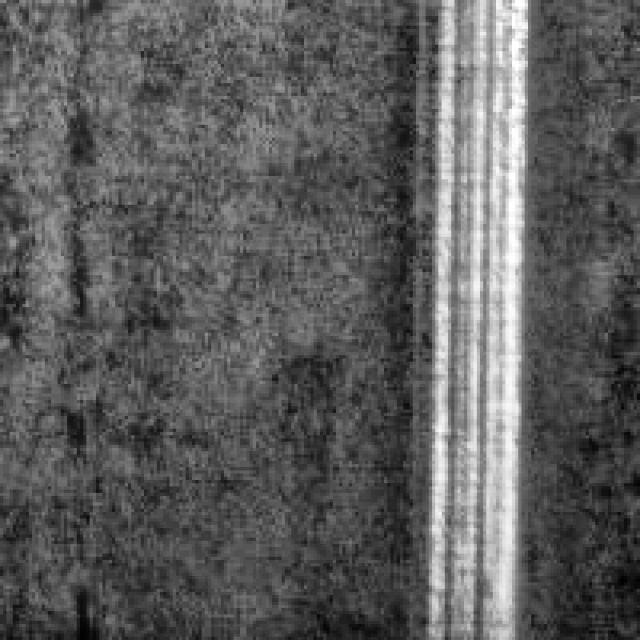Inclusion: (415, 0, 534, 630)
